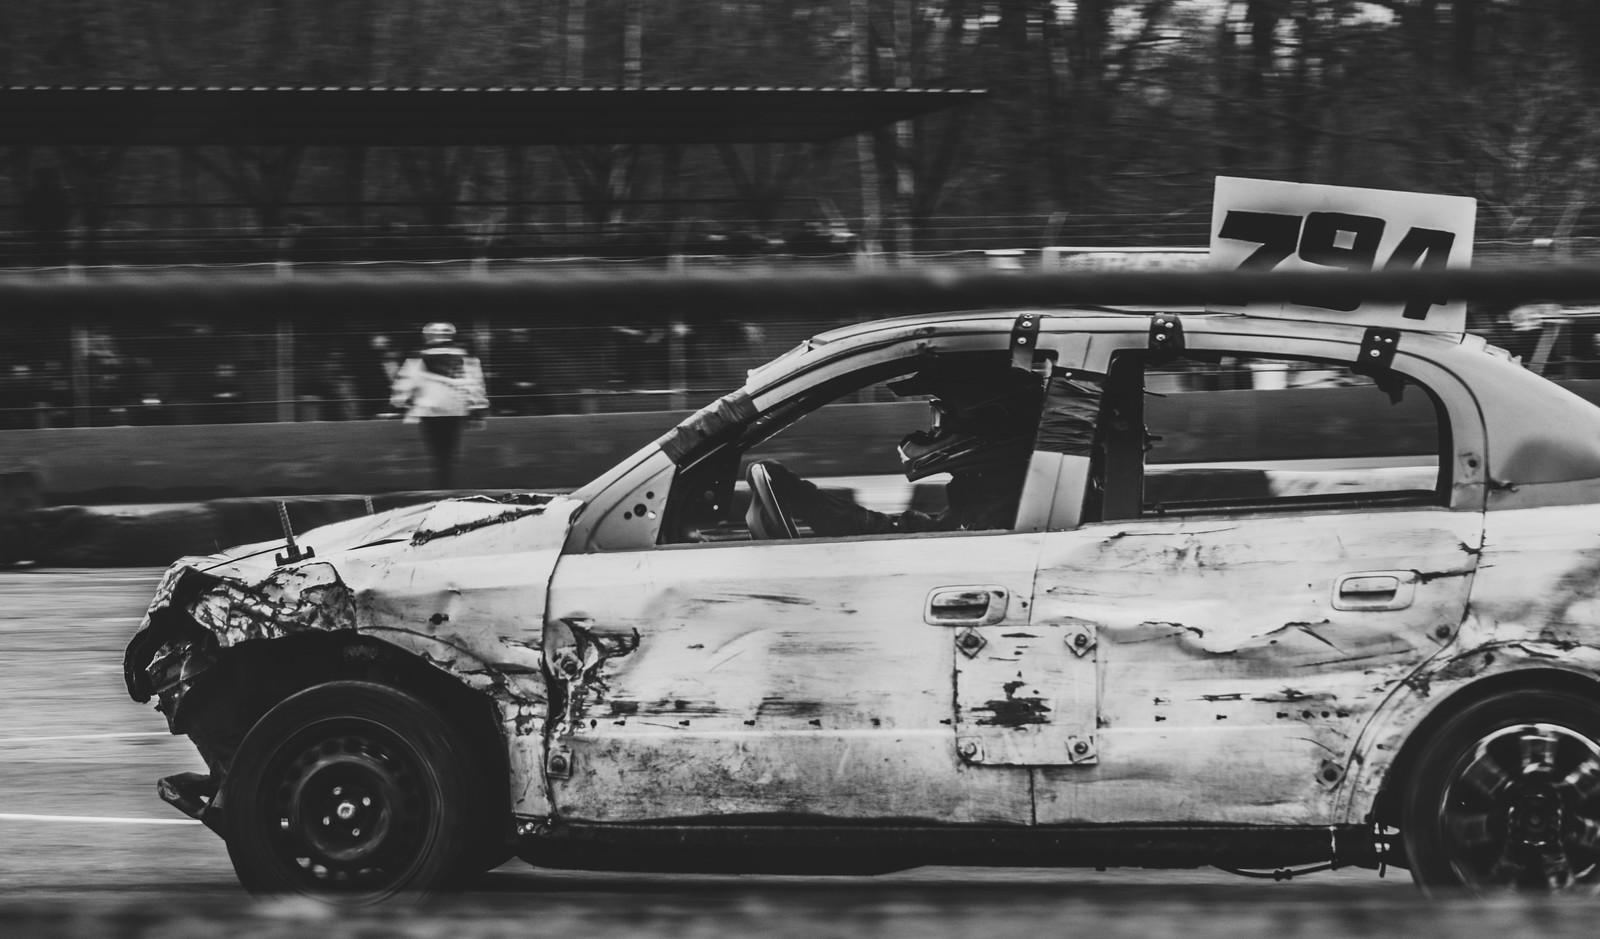doorouter-dent: (1038, 323, 1427, 821), (558, 405, 994, 825)
fender-dent: (153, 553, 540, 788)
quaterpanel-dent: (1480, 483, 1599, 719)
roof-dent: (806, 313, 1472, 374)
